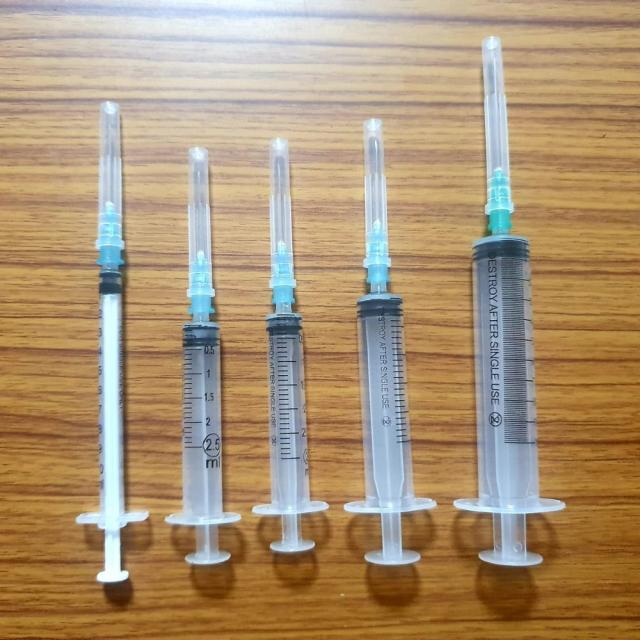syringe: (453, 34, 565, 566), (325, 86, 442, 590), (75, 98, 148, 582), (250, 136, 328, 520), (164, 144, 241, 526)
